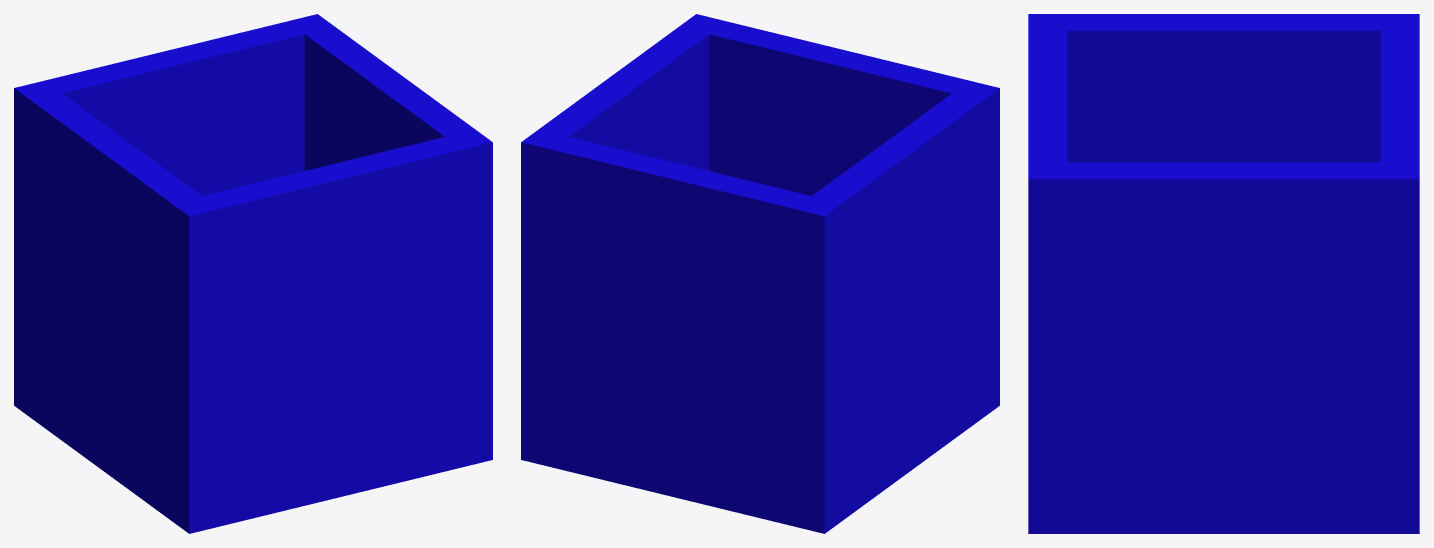
The model's file is try4.fbx.
3 renders of one model, left to right at view 1: azimuth 30°, elevation 25°; view 2: azimuth 150°, elevation 25°; view 3: azimuth 270°, elevation 25°, orthographic. The views are drawn at different scales.
Visible parts, largest first — view 1: Cube; view 2: Cube; view 3: Cube.
Boxes of the visible parts, x1=… form: Cube: x1=14, y1=14, x2=492, y2=533; Cube: x1=521, y1=14, x2=999, y2=533; Cube: x1=1028, y1=14, x2=1419, y2=533.
Bounding box in the file's own units: 500 × 500 × 500.
